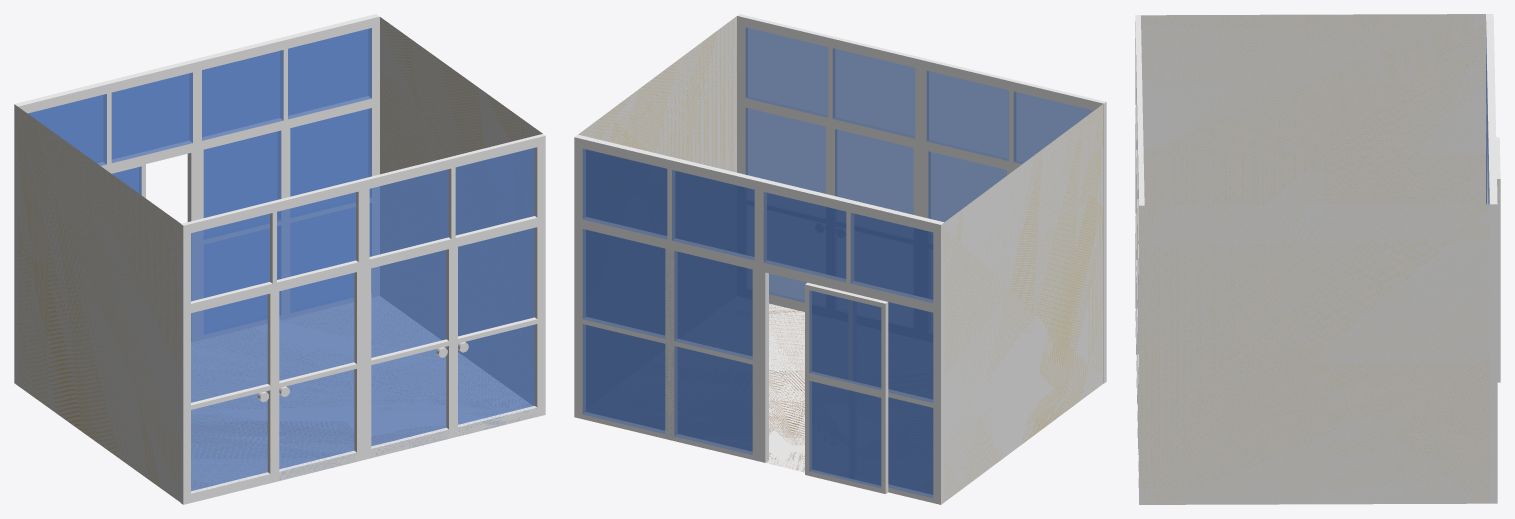
Rendered from COM001.obj.
3 views of the same model, side by side, from view 1: azimuth 30°, elevation 25°; view 2: azimuth 150°, elevation 25°; view 3: azimuth 270°, elevation 25° (orthographic). The views are drawn at different scales.
Parts seen in each view (by area): view 1: Mesh21 COM001 Model, Mesh1 puerta11_3_1 COM001 Model, Mesh15 puerta_principal_corredera_1_1 COM001 Model; view 2: Mesh15 puerta_principal_corredera_1_1 COM001 Model, Mesh21 COM001 Model, Mesh1 puerta11_3_1 COM001 Model; view 3: Mesh21 COM001 Model, Mesh15 puerta_principal_corredera_1_1 COM001 Model, Mesh1 puerta11_3_1 COM001 Model.
Boxes of the visible parts, x1=… form: Mesh21 COM001 Model: x1=14, y1=17, x2=542, y2=502; Mesh1 puerta11_3_1 COM001 Model: x1=180, y1=134, x2=545, y2=504; Mesh15 puerta_principal_corredera_1_1 COM001 Model: x1=14, y1=14, x2=379, y2=385; Mesh15 puerta_principal_corredera_1_1 COM001 Model: x1=574, y1=134, x2=944, y2=504; Mesh21 COM001 Model: x1=578, y1=16, x2=1103, y2=501; Mesh1 puerta11_3_1 COM001 Model: x1=737, y1=14, x2=1106, y2=383; Mesh21 COM001 Model: x1=1139, y1=14, x2=1489, y2=504; Mesh15 puerta_principal_corredera_1_1 COM001 Model: x1=1486, y1=14, x2=1500, y2=503; Mesh1 puerta11_3_1 COM001 Model: x1=1135, y1=15, x2=1144, y2=504.
Bounding box in the file's own units: 4.12 × 3 × 3.32.
Materials: 6 (1 with a texture image).
